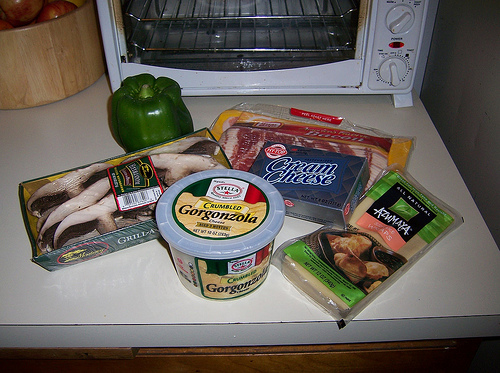capsicum: (107, 73, 193, 150)
